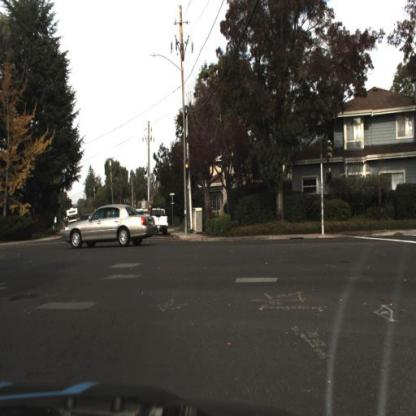car: (64, 204, 154, 252), (148, 205, 173, 239), (147, 204, 171, 233)
trafficLight-Red: (184, 155, 192, 179), (185, 157, 191, 184)
truck: (66, 206, 82, 232)
